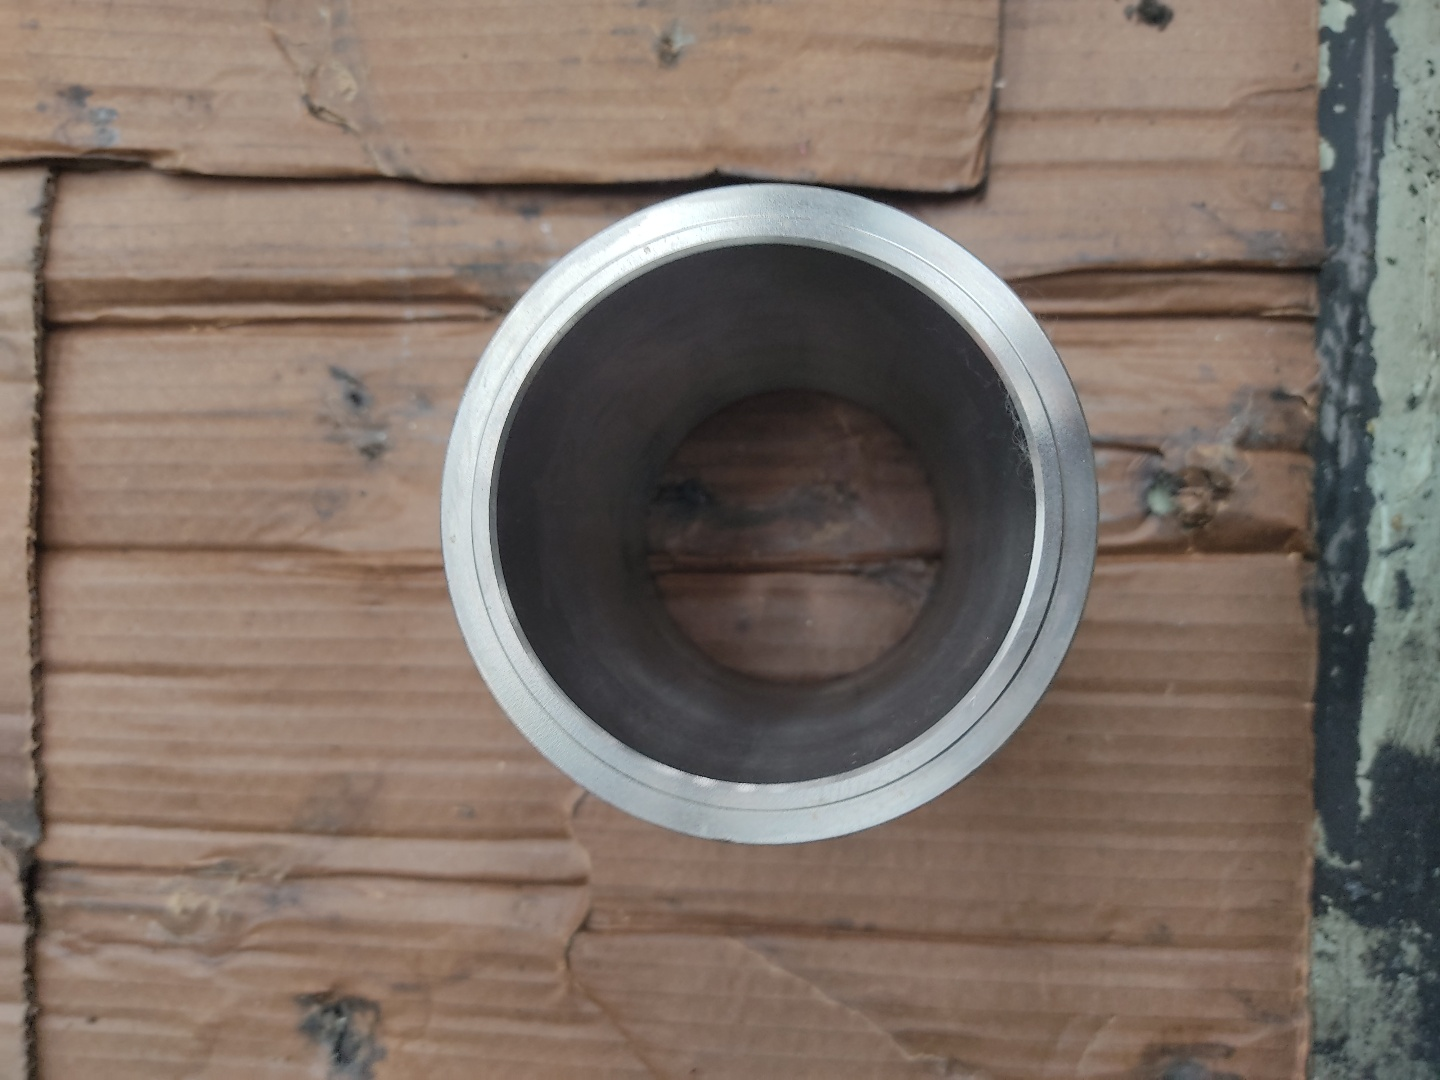cylinder: (435, 176, 1102, 849)
